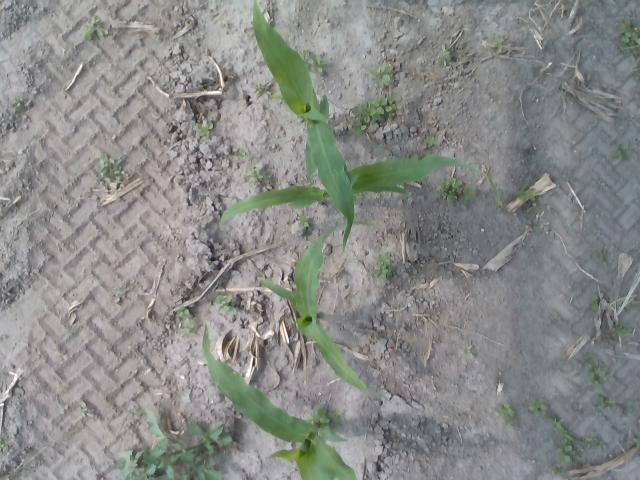Maize: (222, 96, 488, 222), (252, 0, 356, 253), (201, 324, 359, 480), (256, 226, 366, 390)
Weeds: (110, 410, 234, 479), (552, 418, 606, 454), (352, 96, 402, 130), (619, 17, 640, 57), (586, 354, 608, 387), (439, 176, 463, 204), (372, 256, 396, 280), (214, 294, 239, 316), (370, 64, 396, 85), (83, 18, 106, 41), (176, 306, 194, 335), (249, 170, 273, 188), (315, 407, 340, 424), (251, 81, 271, 100), (598, 394, 616, 414), (309, 55, 330, 72), (196, 120, 214, 138), (529, 398, 547, 416), (498, 404, 514, 424), (612, 141, 628, 161), (114, 288, 131, 306), (518, 187, 536, 203), (555, 446, 572, 462), (100, 154, 114, 173), (611, 324, 627, 339), (80, 402, 92, 418), (596, 248, 608, 262), (592, 292, 600, 311), (423, 138, 438, 148), (14, 102, 26, 114), (298, 219, 312, 229), (490, 38, 504, 48), (114, 167, 124, 180), (441, 44, 449, 54), (633, 438, 640, 449)
